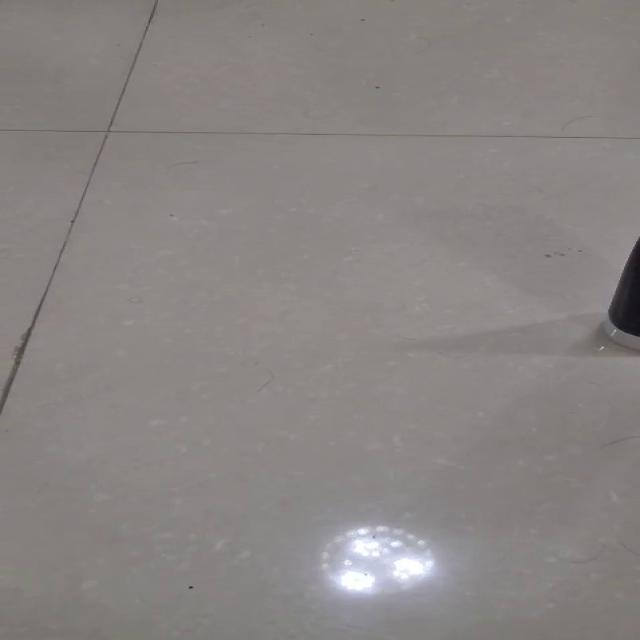plastic: (318, 523, 437, 595)
